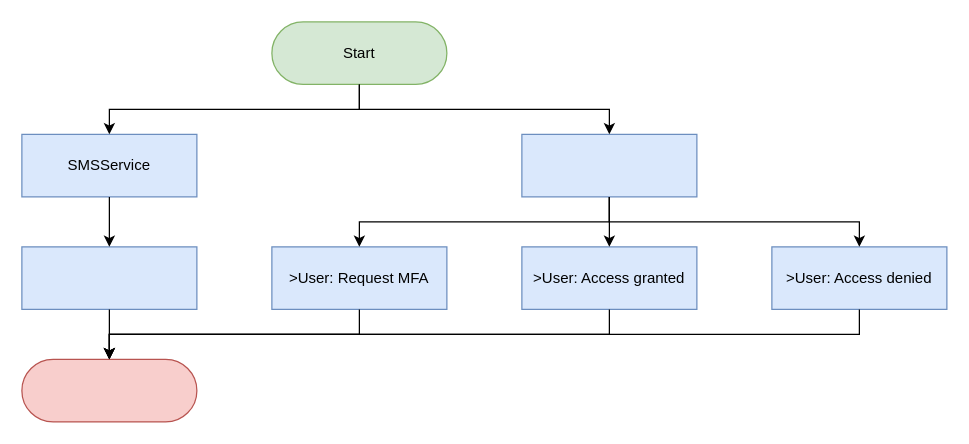
The diagram is 969 pixels wide and 444 high, and some of its shapes have lost their labels. The shapes that lost their labels are listed below. From the top down, each one's centre as x and y in pixels, then its label:
the point at 609,165: System
the point at 109,277: >User: Deliver code
the point at 109,390: Stop
